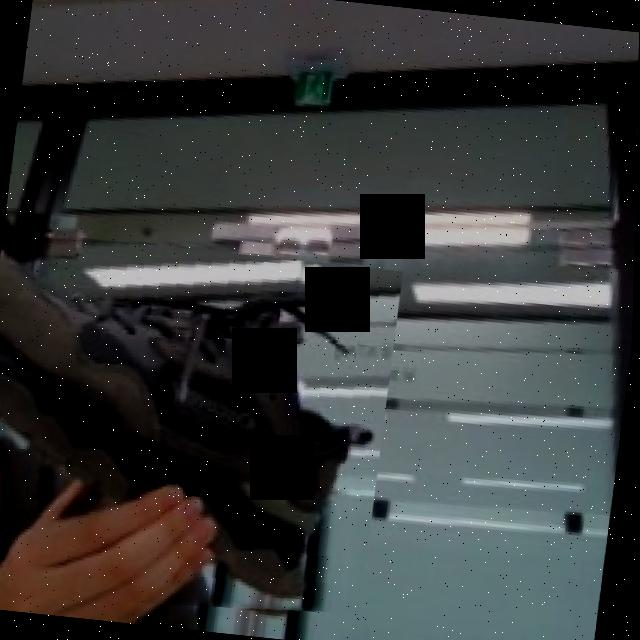shoe: (0, 229, 404, 636)
